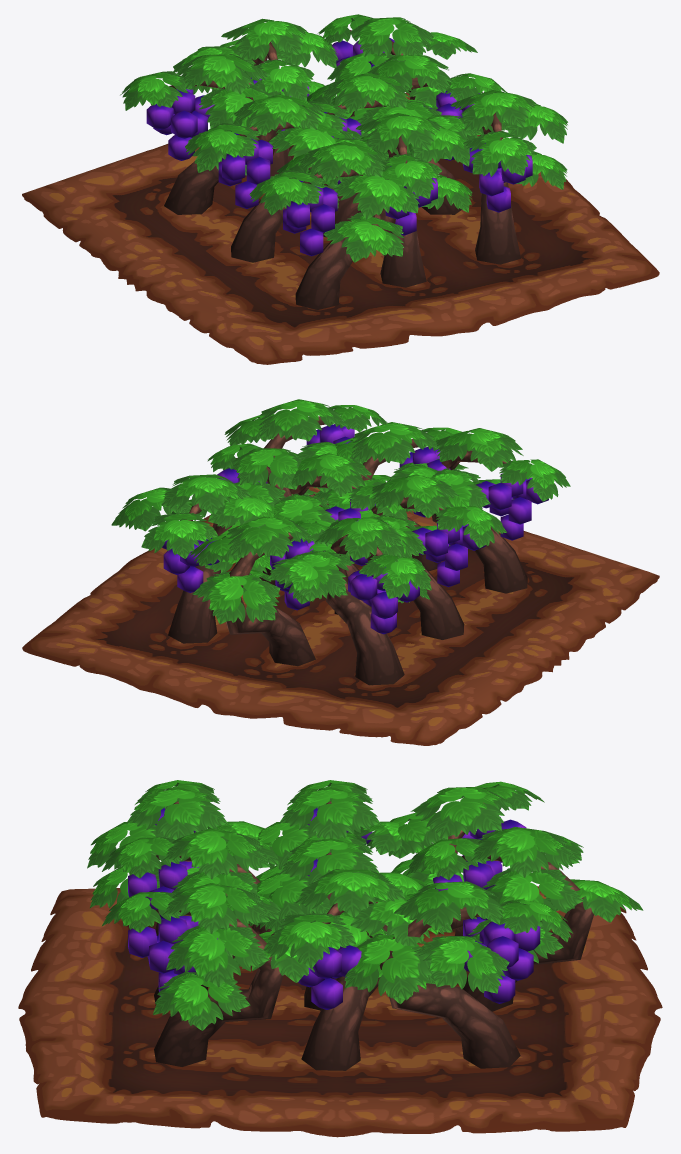
File: Grape_Field_Lv3.FBX
3 views of the same model, one above another, from view 1: azimuth 30°, elevation 25°; view 2: azimuth 150°, elevation 25°; view 3: azimuth 270°, elevation 25° (orthographic). The views are drawn at different scales.
Parts seen in each view (by area): view 1: Grape_Field_Lv3; view 2: Grape_Field_Lv3; view 3: Grape_Field_Lv3.
Part boxes in pixels (left/top/right/bottom): Grape_Field_Lv3: left=22, top=14, right=659, bottom=364; Grape_Field_Lv3: left=22, top=399, right=659, bottom=745; Grape_Field_Lv3: left=18, top=780, right=662, bottom=1137.
Size of the model in its own units: 274 by 89.87 by 296.
